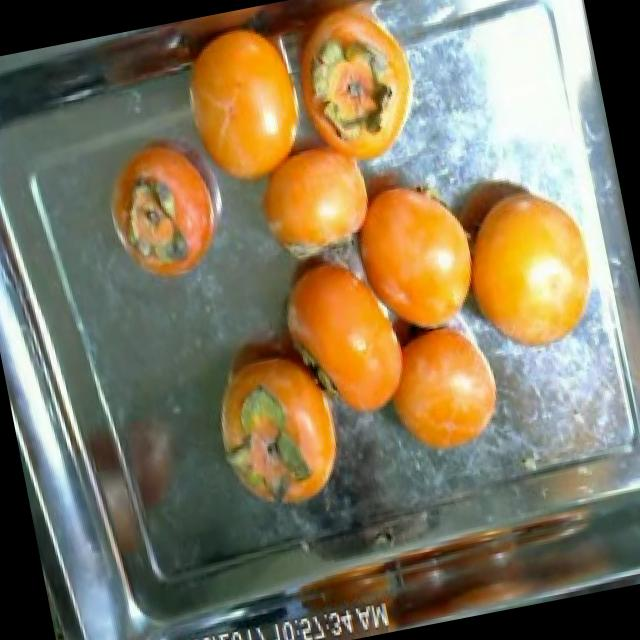Fruit: (439, 160, 619, 376), (334, 155, 501, 356), (158, 4, 314, 210), (194, 348, 363, 536), (83, 115, 240, 302), (363, 298, 524, 476), (294, 0, 442, 186), (235, 120, 387, 278)
